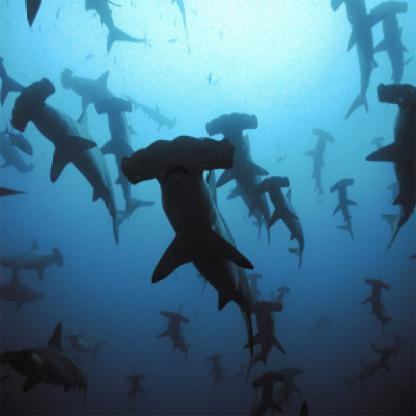Shark -Selachimorpha-: (117, 131, 257, 392), (10, 75, 137, 244), (200, 107, 280, 254), (2, 321, 95, 402), (255, 172, 311, 265), (1, 237, 69, 284), (325, 173, 365, 245), (306, 119, 339, 203), (157, 303, 197, 367), (364, 272, 393, 337), (63, 324, 106, 366), (123, 94, 177, 127)
